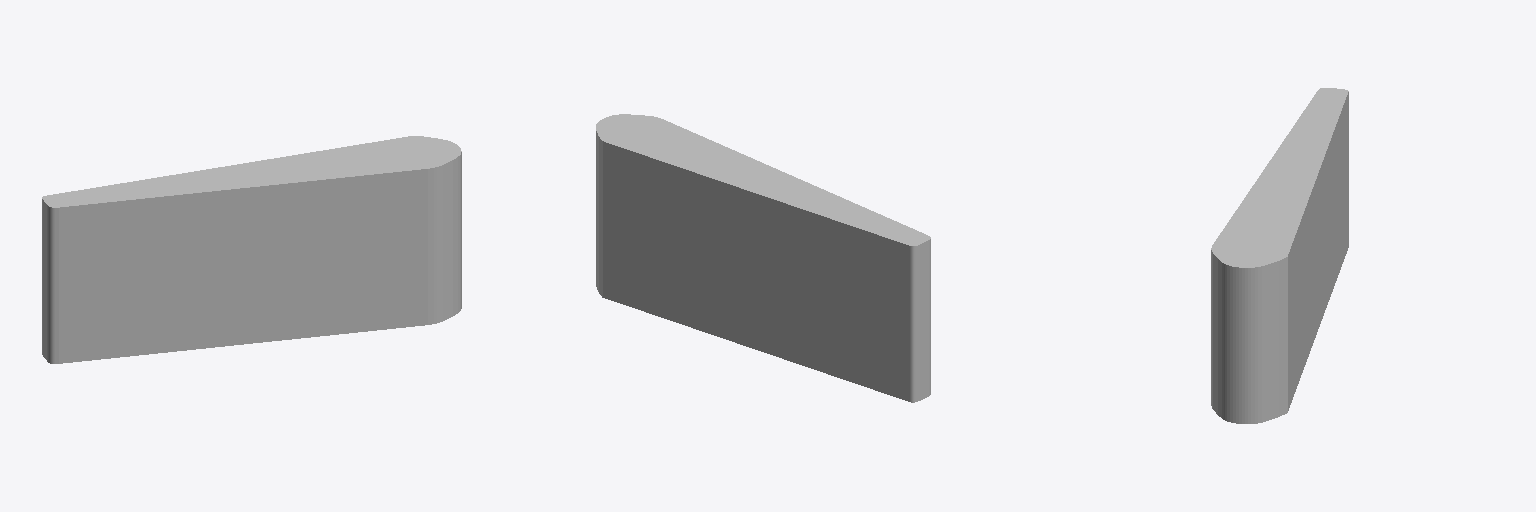
File: paleta-esq.obj
The picture shows the model from 3 angles: view 1: azimuth 30°, elevation 25°; view 2: azimuth 150°, elevation 25°; view 3: azimuth 270°, elevation 25°; orthographic projection.
Visible parts, largest first — view 1: paleta-esq_Mesh.010; view 2: paleta-esq_Mesh.010; view 3: paleta-esq_Mesh.010.
Part boxes in pixels (x1,y1,x2,y2): paleta-esq_Mesh.010: (42,136,461,363); paleta-esq_Mesh.010: (596,114,930,402); paleta-esq_Mesh.010: (1211,88,1348,423).
Bounding box in the file's own units: 0.0934 × 0.0378 × 0.0301.